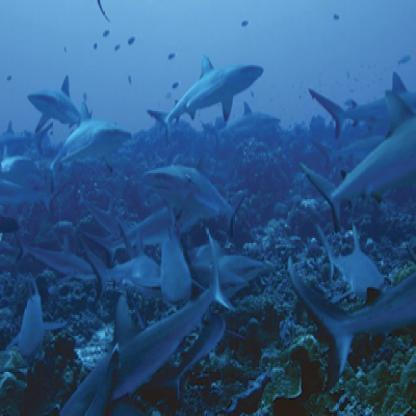shark: (286, 252, 416, 389), (147, 50, 265, 148), (143, 156, 248, 239), (132, 222, 208, 305), (47, 99, 135, 169), (7, 271, 67, 354), (15, 228, 98, 282), (25, 73, 91, 133)
